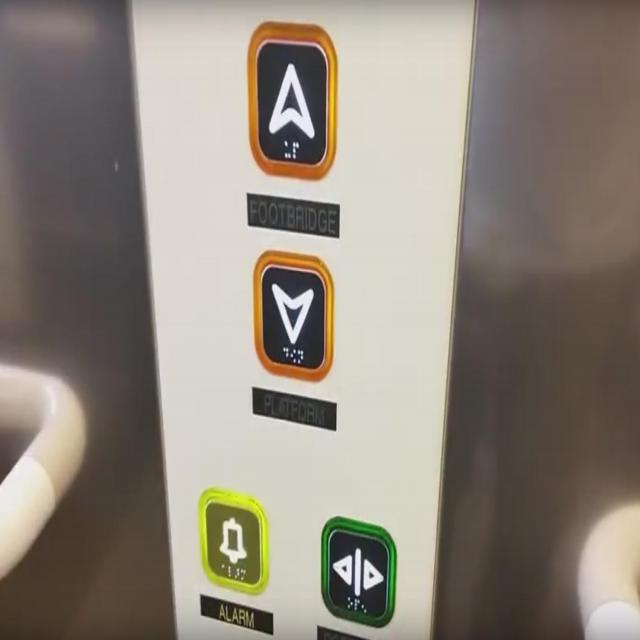alarm: (197, 483, 271, 604)
down: (251, 244, 338, 389)
open: (319, 509, 399, 633)
up: (244, 13, 340, 182)
